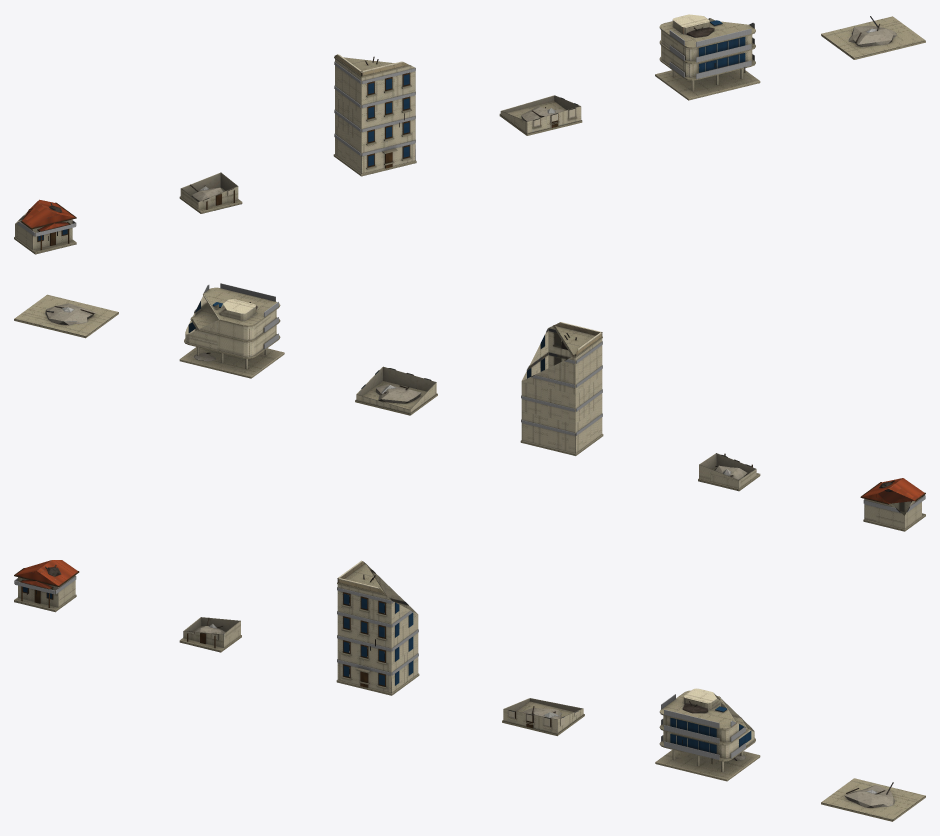
The model's file is modern-israelite-houses-damage.glb.
3 views of the same model, one above another, from view 1: azimuth 30°, elevation 25°; view 2: azimuth 150°, elevation 25°; view 3: azimuth 330°, elevation 25° (orthographic).
Parts seen in each view (by area): view 1: LOD0.002, LOD0.004, LOD0.005, LOD0, LOD0.003, LOD0.001; view 2: LOD0.002, LOD0.004, LOD0.003, LOD0.005, LOD0, LOD0.001; view 3: LOD0.002, LOD0.004, LOD0.005, LOD0, LOD0.003, LOD0.001.
Part boxes in pixels (bbox=[...]): LOD0.002: bbox=[333, 54, 416, 176]; LOD0.004: bbox=[655, 14, 760, 100]; LOD0.005: bbox=[821, 16, 925, 59]; LOD0: bbox=[14, 199, 76, 254]; LOD0.003: bbox=[499, 95, 582, 135]; LOD0.001: bbox=[179, 172, 242, 213]; LOD0.002: bbox=[520, 322, 603, 455]; LOD0.004: bbox=[179, 283, 284, 378]; LOD0.003: bbox=[355, 366, 437, 415]; LOD0.005: bbox=[14, 294, 118, 338]; LOD0: bbox=[860, 478, 925, 531]; LOD0.001: bbox=[698, 453, 760, 491]; LOD0.002: bbox=[336, 560, 419, 695]; LOD0.004: bbox=[655, 688, 760, 781]; LOD0.005: bbox=[821, 778, 925, 821]; LOD0: bbox=[14, 560, 79, 612]; LOD0.003: bbox=[502, 698, 584, 736]; LOD0.001: bbox=[179, 617, 241, 652].
Size of what is drawn, in the model's own units: 16.06 by 1.81 by 1.05.
Materials: 2 (2 with a texture image).
